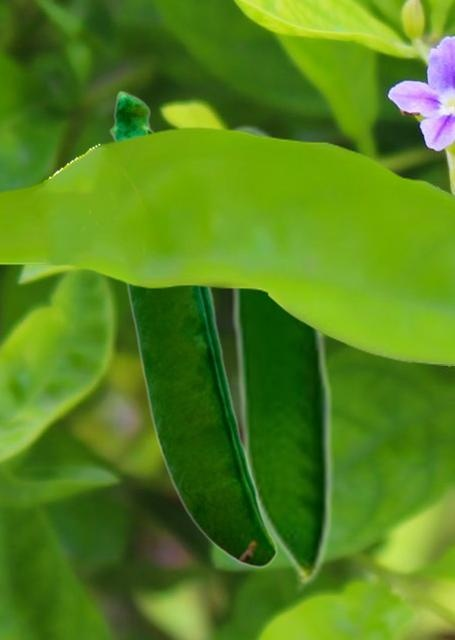pea: (109, 89, 276, 567), (225, 122, 333, 593)
